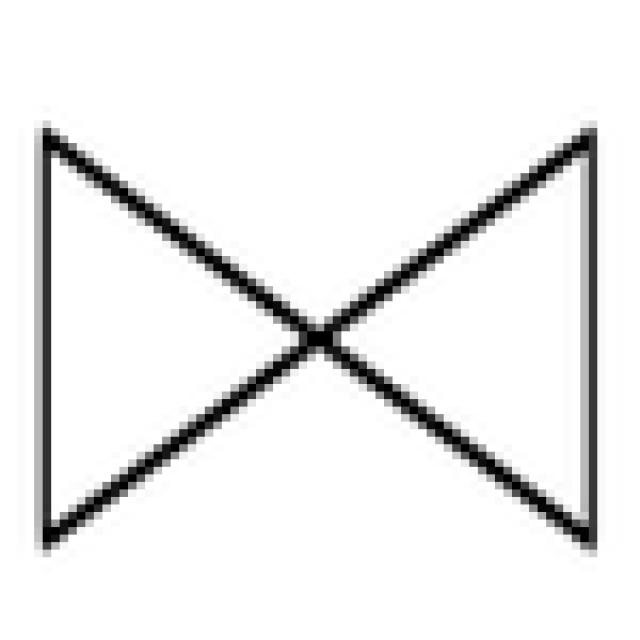Gate valve: (43, 128, 589, 542)
